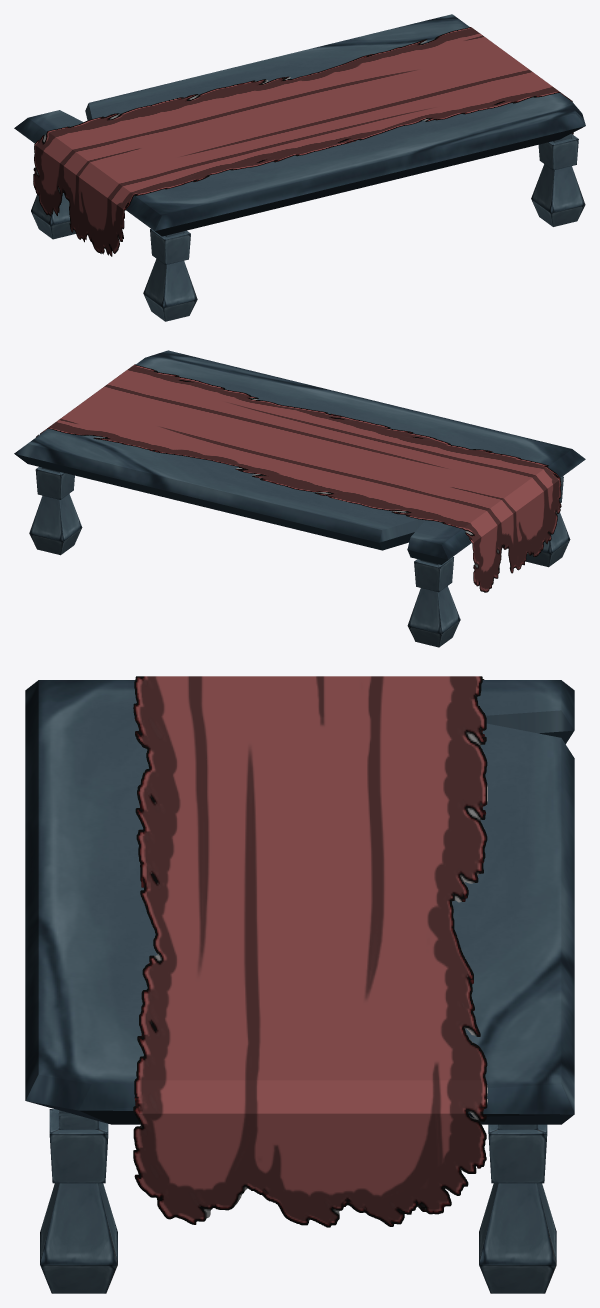
Rendered from Stonetable_L.fbx.
The picture shows the model from 3 angles, top to bottom: view 1: azimuth 30°, elevation 25°; view 2: azimuth 150°, elevation 25°; view 3: azimuth 270°, elevation 25°; orthographic projection. The views are drawn at different scales.
Visible parts, largest first — view 1: Stone_table; view 2: Stone_table; view 3: Stone_table.
Part boxes in pixels (bbox=[...]): Stone_table: bbox=[14, 14, 585, 321]; Stone_table: bbox=[14, 350, 585, 647]; Stone_table: bbox=[25, 676, 574, 1293].
Size of the model in its own units: 13.08 by 3.09 by 7.06.
